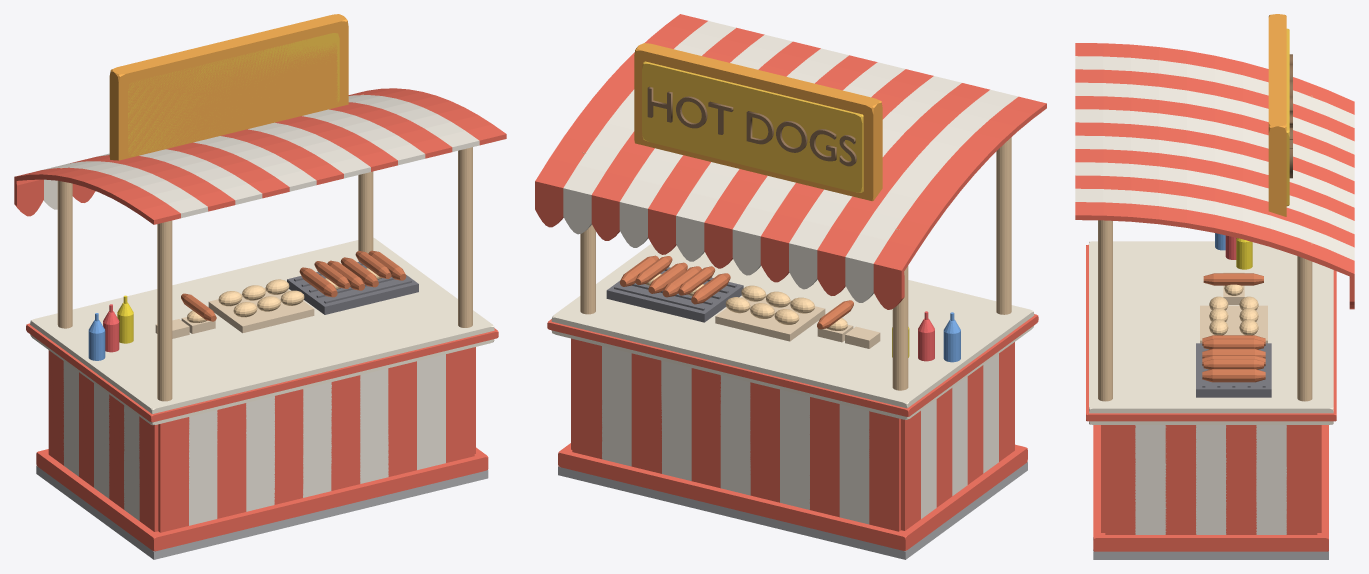
File: 33-hot-dog-stand-hd1.glb
3 views of the same model, side by side, from view 1: azimuth 30°, elevation 25°; view 2: azimuth 150°, elevation 25°; view 3: azimuth 270°, elevation 25° (orthographic). The views are drawn at different scales.
Parts seen in each view (by area): view 1: Countertop, Canopy, SignFrame, BaseTrim, SignPlate, CounterRim, BasePlate, Skirt_back_0, Skirt_back_2, Skirt_back_6, Skirt_back_4, Skirt_back_9 (+19 smaller); view 2: Canopy, Countertop, SignPlate, BaseTrim, SignFrame, CounterRim, BasePlate, Skirt_front_0, Skirt_front_8, Skirt_front_1, Skirt_front_5, Skirt_front_7 (+19 smaller); view 3: Canopy, Countertop, BaseTrim, SignFrame, Skirt_right_0, Skirt_right_5, Skirt_right_4, Skirt_right_2, Skirt_right_6, Skirt_right_1, Skirt_right_3, CounterRim (+15 smaller).
Boxes of the visible parts, bbox=[...] form: Countertop: bbox=[30, 237, 494, 425]; Canopy: bbox=[14, 88, 506, 224]; SignFrame: bbox=[109, 14, 348, 160]; BaseTrim: bbox=[36, 447, 488, 551]; SignPlate: bbox=[128, 33, 339, 156]; CounterRim: bbox=[26, 323, 498, 422]; BasePlate: bbox=[36, 465, 488, 559]; Skirt_back_0: bbox=[158, 417, 189, 532]; Skirt_back_2: bbox=[217, 403, 246, 518]; Skirt_back_6: bbox=[331, 375, 360, 490]; Skirt_back_4: bbox=[274, 389, 303, 504]; Skirt_back_9: bbox=[417, 354, 445, 469]; Canopy: bbox=[535, 14, 1046, 309]; Countertop: bbox=[551, 243, 1034, 419]; SignPlate: bbox=[642, 61, 863, 192]; BaseTrim: bbox=[558, 443, 1027, 550]; SignFrame: bbox=[634, 43, 882, 201]; CounterRim: bbox=[547, 314, 1038, 416]; BasePlate: bbox=[558, 462, 1027, 559]; Skirt_front_0: bbox=[869, 411, 900, 531]; Skirt_front_8: bbox=[631, 353, 661, 473]; Skirt_front_1: bbox=[839, 404, 869, 524]; Skirt_front_5: bbox=[720, 375, 750, 495]; Skirt_front_7: bbox=[661, 360, 691, 480]; Canopy: bbox=[1075, 43, 1354, 309]; Countertop: bbox=[1089, 241, 1333, 424]; BaseTrim: bbox=[1093, 425, 1328, 551]; SignFrame: bbox=[1268, 14, 1286, 216]; Skirt_right_0: bbox=[1286, 425, 1317, 534]; Skirt_right_5: bbox=[1135, 425, 1166, 534]; Skirt_right_4: bbox=[1165, 425, 1196, 534]; Skirt_right_2: bbox=[1226, 425, 1256, 534]; Skirt_right_6: bbox=[1105, 425, 1135, 534]; Skirt_right_1: bbox=[1256, 425, 1286, 534]; Skirt_right_3: bbox=[1196, 425, 1226, 534]; CounterRim: bbox=[1086, 244, 1336, 421].
Size of the model in its own units: 2.7 by 2.98 by 1.85.
